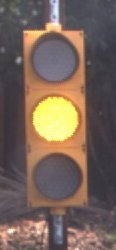Yellow: (17, 28, 97, 224)
